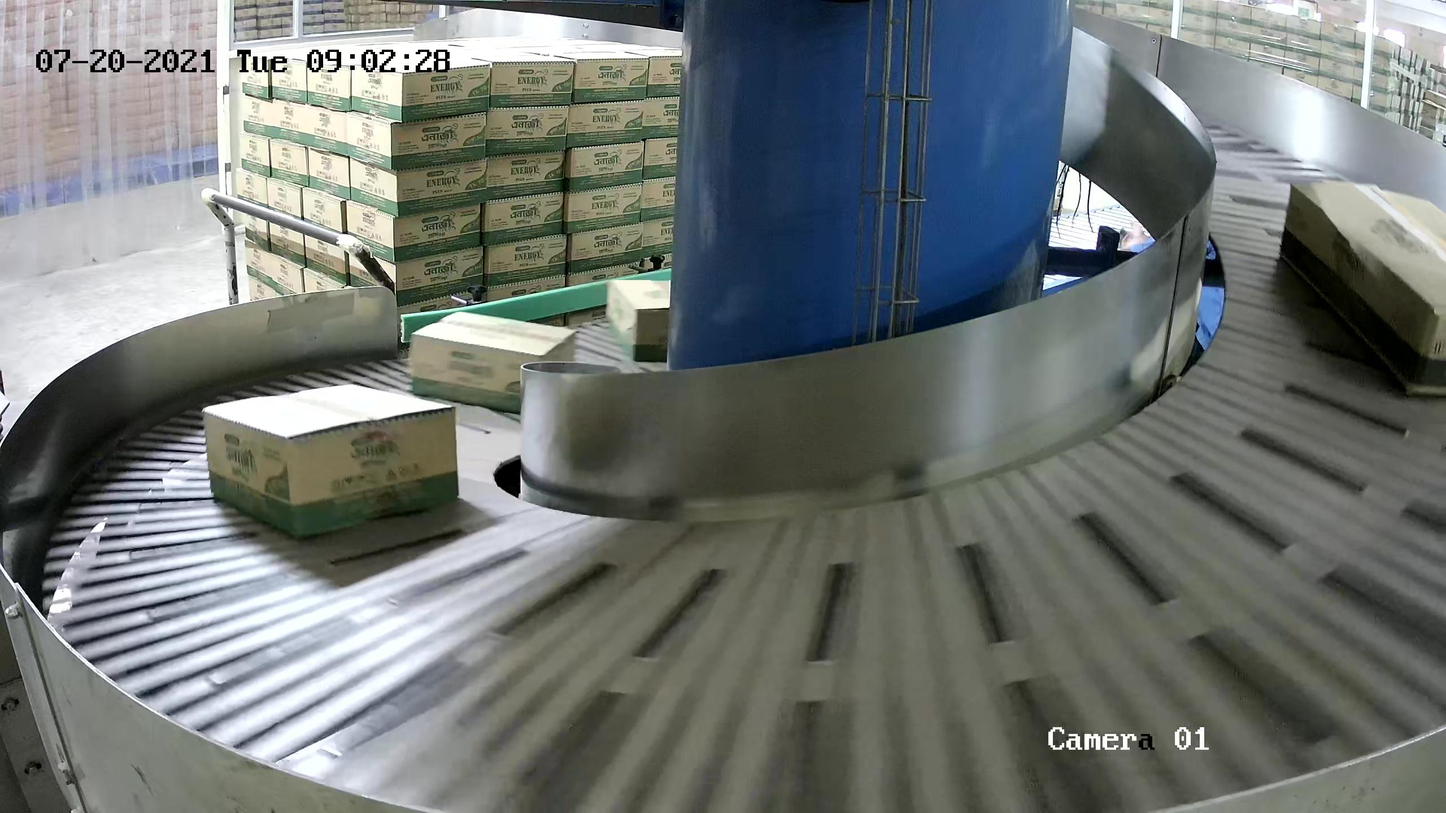Box: (201, 379, 464, 539), (1279, 177, 1446, 401), (407, 310, 580, 416), (605, 276, 740, 369)
